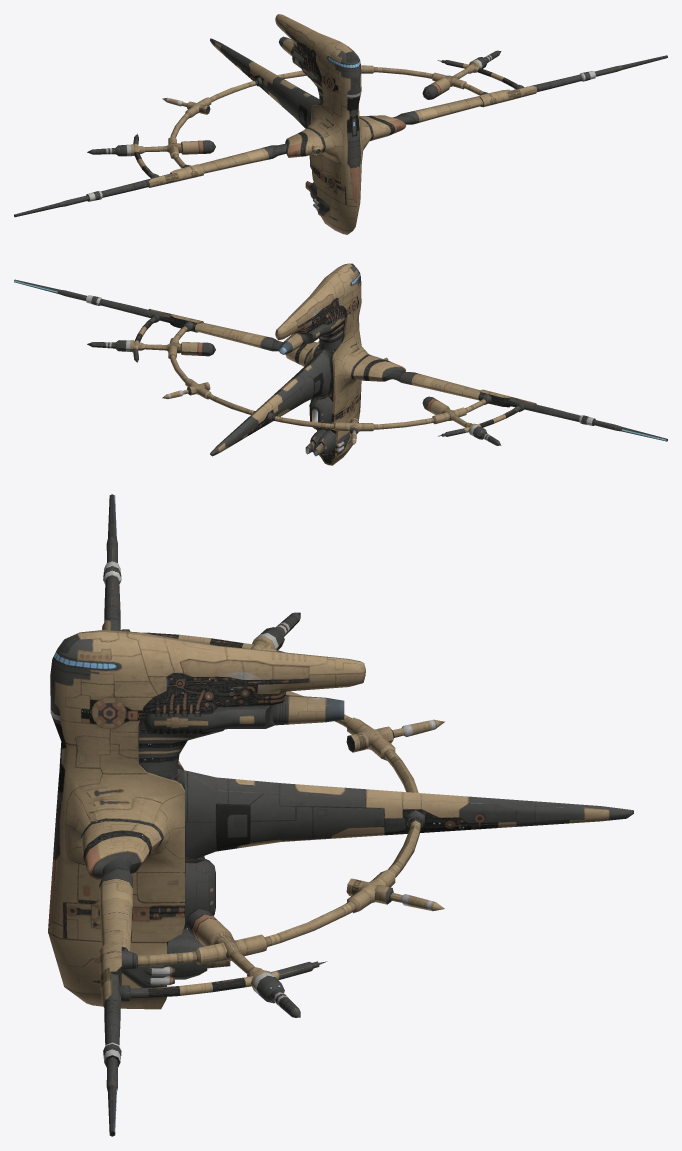
Rendered from 29266_lite.glb.
The picture shows the model from 3 angles, top to bottom: view 1: azimuth 30°, elevation 25°; view 2: azimuth 150°, elevation 25°; view 3: azimuth 270°, elevation 25°; orthographic projection. The views are drawn at different scales.
Parts seen in each view (by area): view 1: ship; view 2: ship; view 3: ship.
Part boxes in pixels (bbox=[...]): ship: bbox=[14, 14, 667, 234]; ship: bbox=[14, 263, 667, 465]; ship: bbox=[48, 494, 633, 1136].
Size of the model in its own units: 1.55 by 0.4269 by 0.6033.
1 material, 1 textured.
